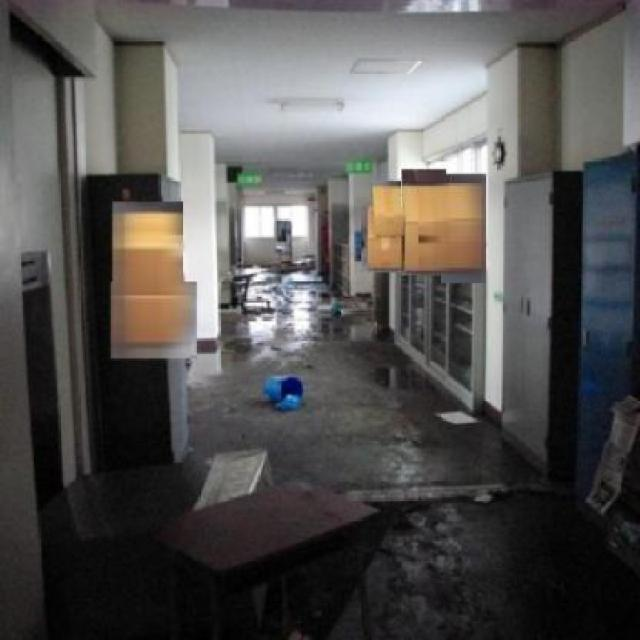box: (109, 282, 200, 360), (111, 202, 186, 296), (440, 172, 488, 286), (402, 168, 447, 278), (361, 206, 402, 274), (371, 180, 402, 235)
